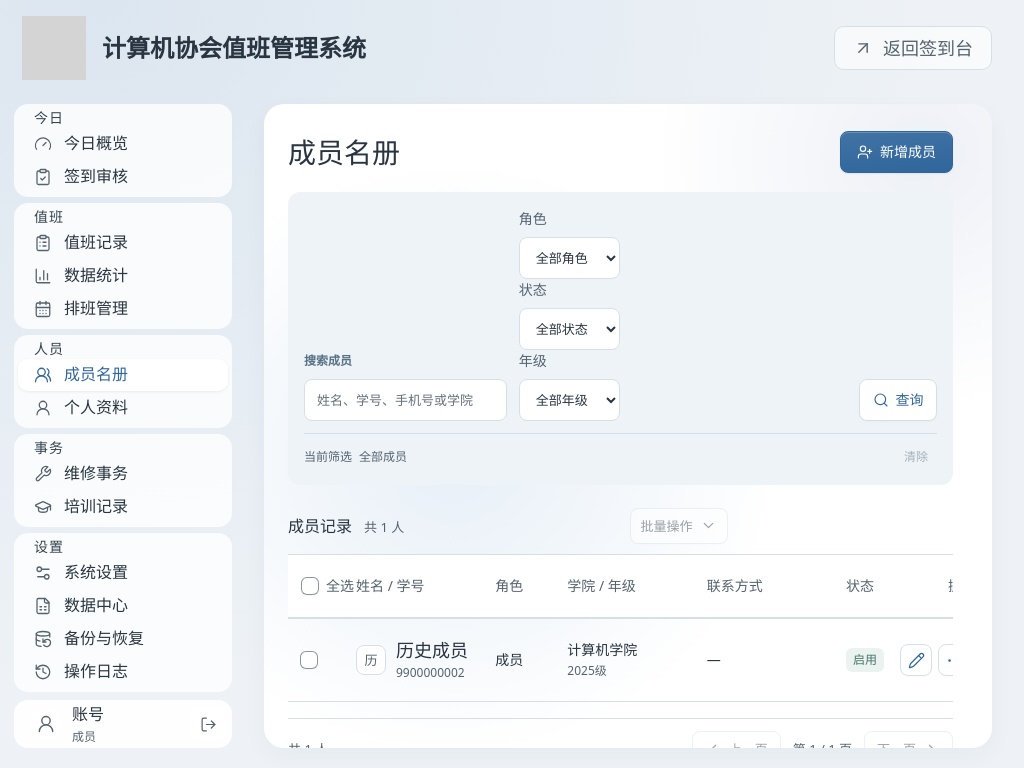
Test case: MembersPage applied query › keeps old results and selection on failure, then retries the submitted snapshot
The width and height of the screenshot is (1024, 768).
Click the checkbox named "memberSelection-2" at (309, 660), box top-left (300, 651), bottom-right (318, 669)
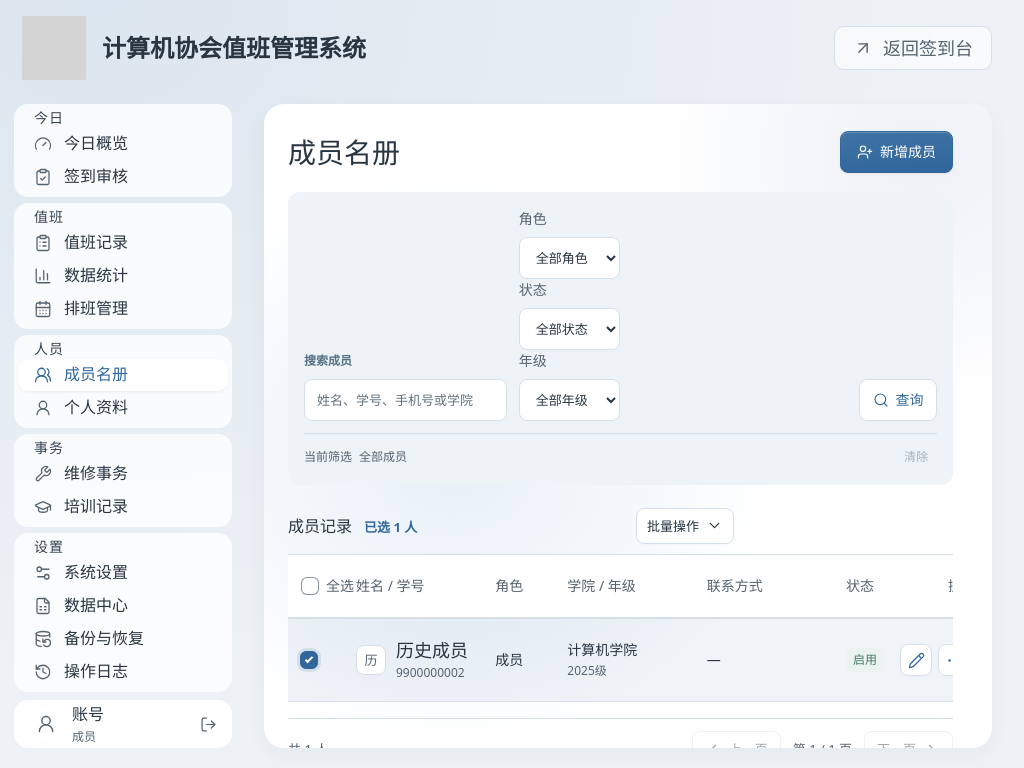
Type "失败条件" into the search field named "memberKeyword" at (405, 400), box top-left (304, 379), bottom-right (507, 421)
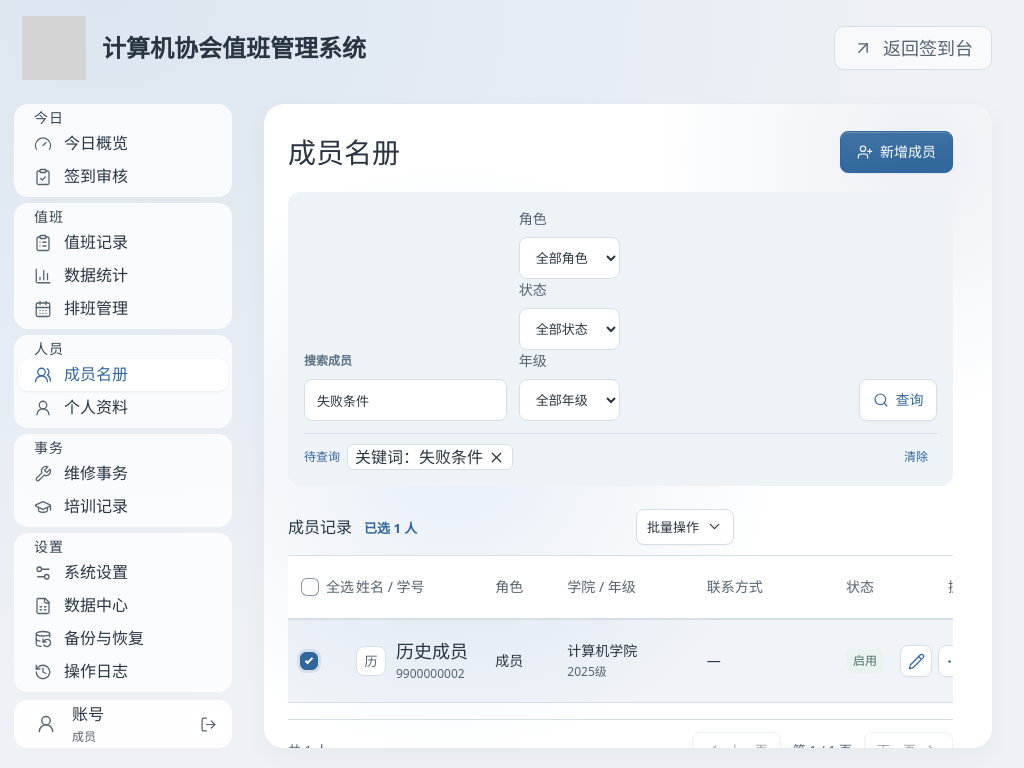
Select "部长" in the dropdown named "memberRole" at (570, 258), box top-left (519, 237), bottom-right (620, 279)
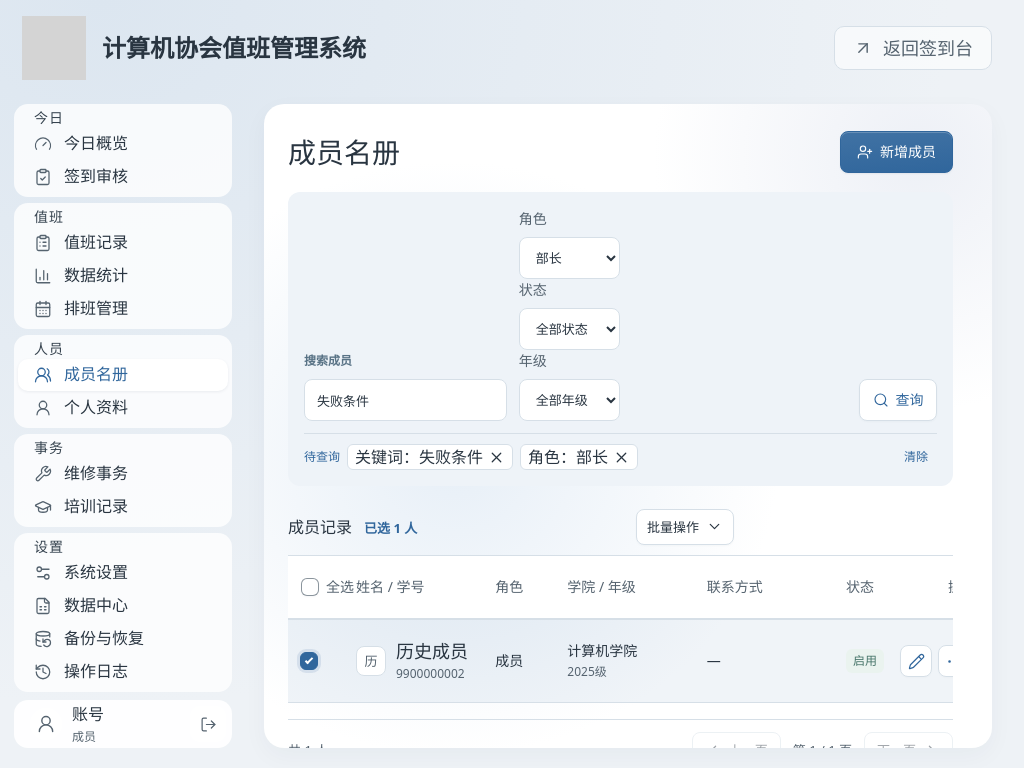
Submit the form with class "mw-filter", box top-left (288, 192), bottom-right (953, 486)
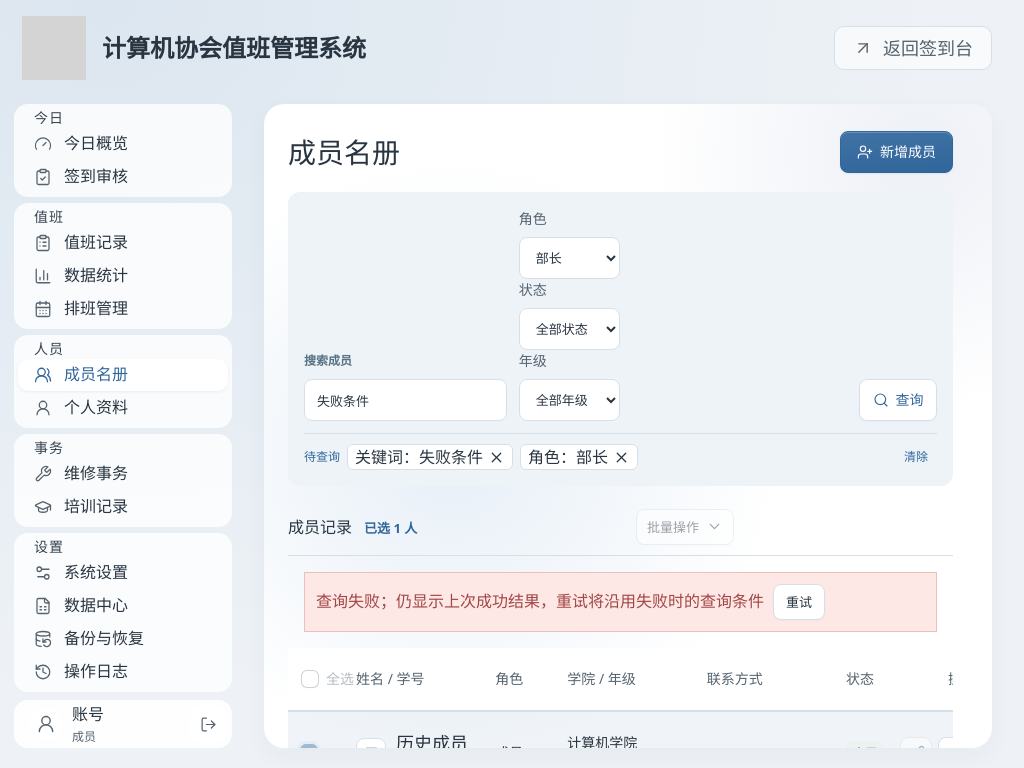
Expected: the text "已选 1 人" is shown, top-left (364, 516), bottom-right (417, 538)
Expected: the text "仍显示上次成功结果" is shown, top-left (316, 590), bottom-right (764, 612)
Replace the text in the search field named "memberKeyword" with "再次修改" at (405, 400), box top-left (304, 379), bottom-right (507, 421)
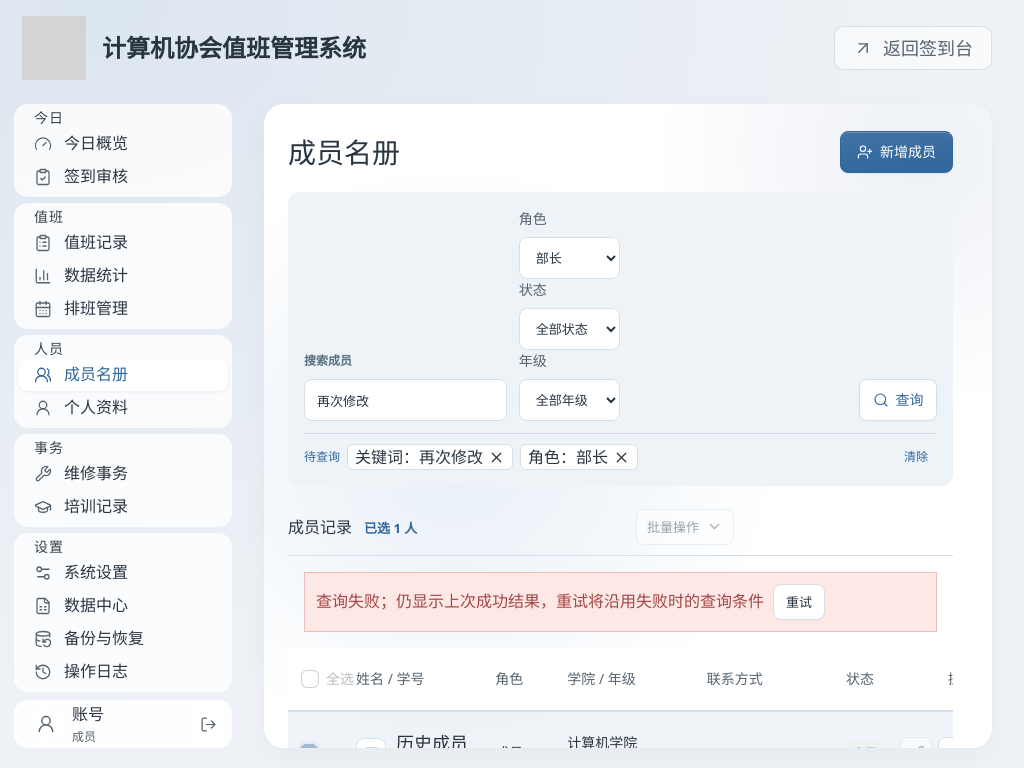
Click the button "重试" at (799, 602), box top-left (773, 584), bottom-right (825, 620)
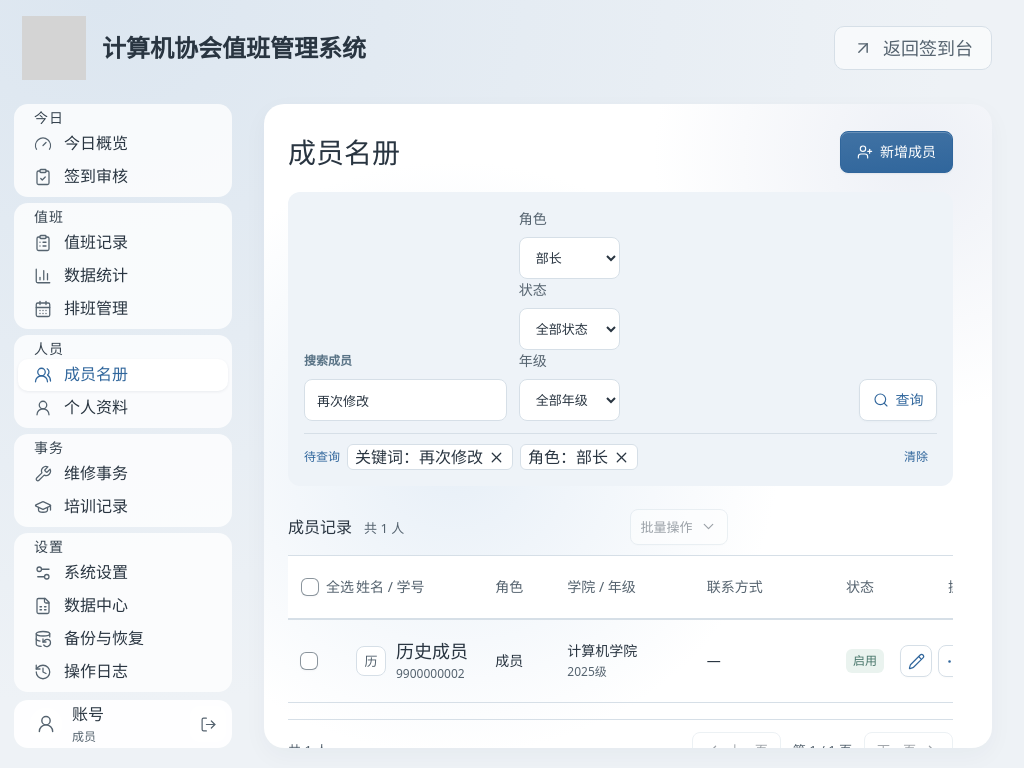
Expected: the text "已选 1 人" is gone
